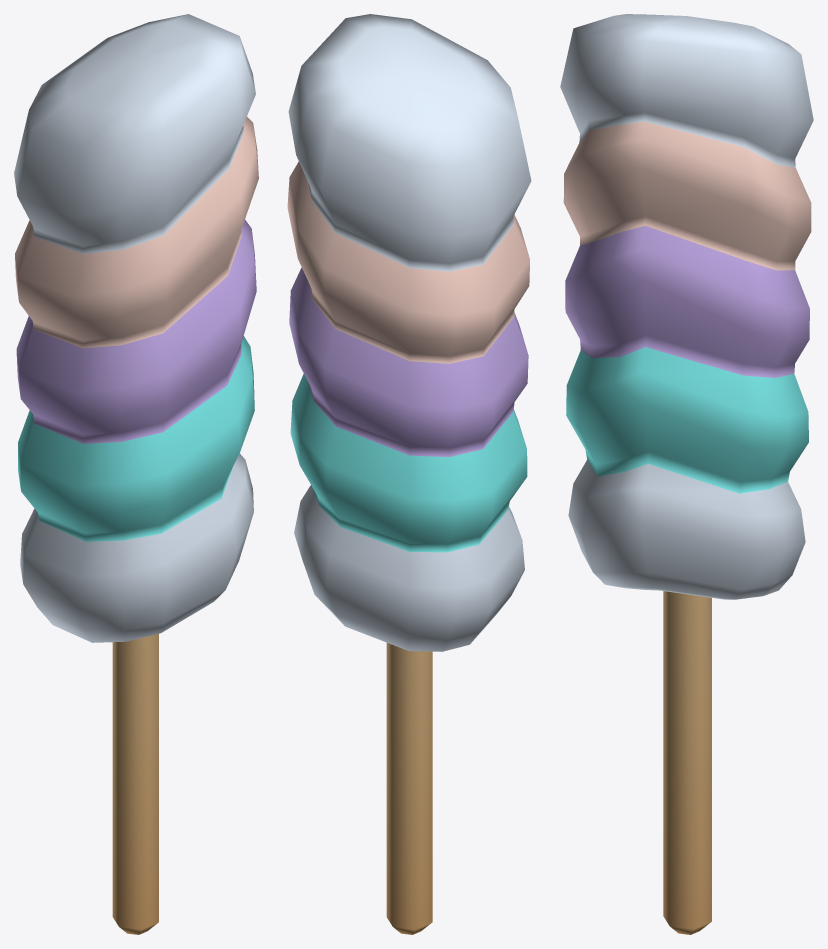
Rendered from Marshmallow.fbx.
3 views of the same model, side by side, from view 1: azimuth 30°, elevation 25°; view 2: azimuth 150°, elevation 25°; view 3: azimuth 270°, elevation 25° (orthographic). The views are drawn at different scales.
Parts seen in each view (by area): view 1: Marshmallow; view 2: Marshmallow; view 3: Marshmallow.
Boxes of the visible parts, x1,y1,x2,y2 form: Marshmallow: (14, 14, 258, 934); Marshmallow: (287, 14, 531, 934); Marshmallow: (560, 14, 813, 934).
Bounding box in the file's own units: 2.62 × 11.04 × 2.72.
